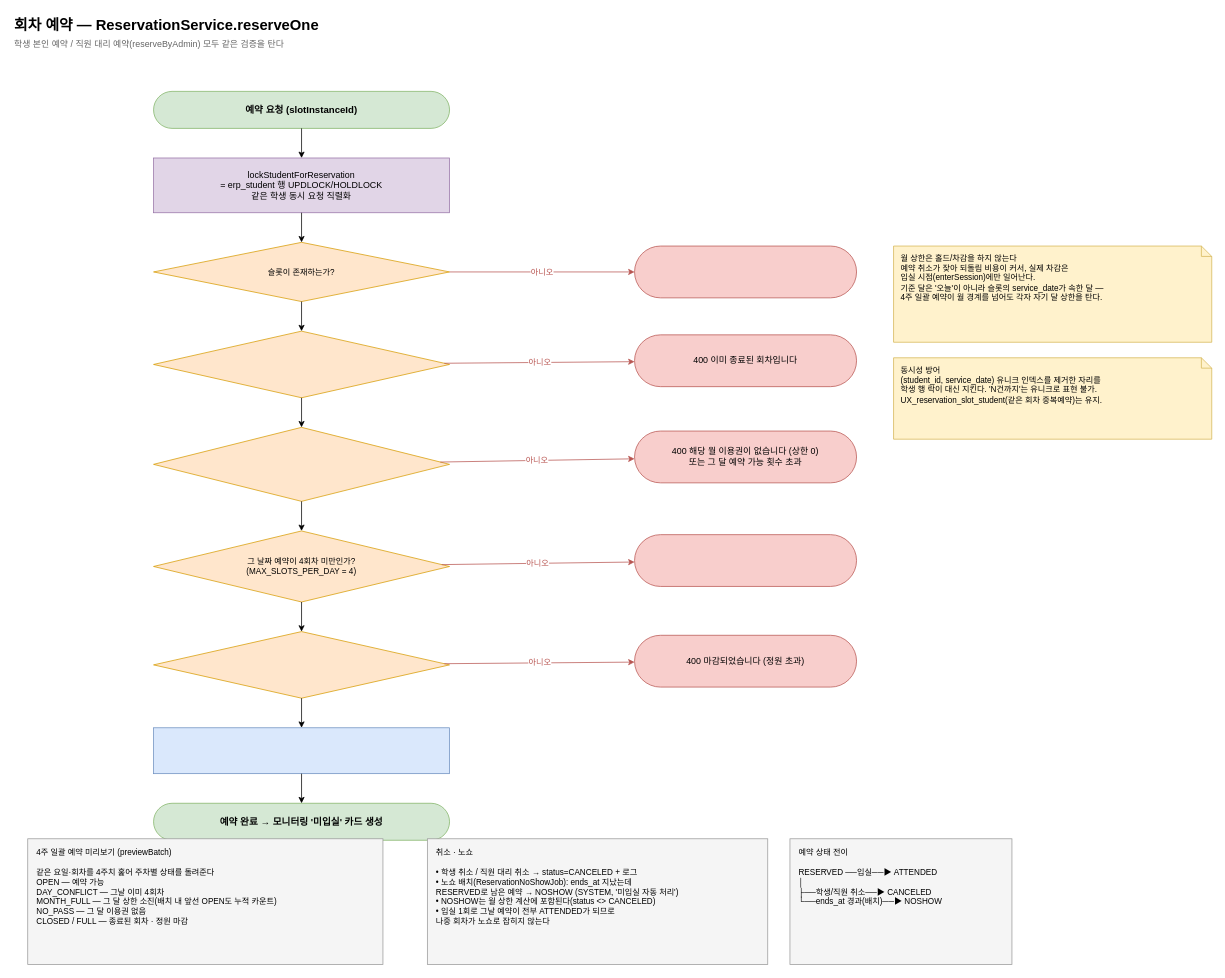
This 1225x978 diagram has some shape labels left out. The shapes that lost their labels are listed below. From the top down, each one's centre as x and y in pixels, then its label:
pixel 745 271: 404 존재하지 않는 회차입니다
pixel 301 364: 아직 끝나지 않은 회차인가? (ends_at > now)
pixel 301 464: 그 달 예약 상한 미만인가? 비취소 예약수 < 그 달 이용권 total_count 합
pixel 745 560: 400 하루 4회차까지만 예약할 수 있습니다
pixel 301 664: 슬롯 정원이 남았는가? (incrementReservedCount)
pixel 301 750: 예약 INSERT + 상태로그(RESERVED) 날짜는 요청이 아니라 슬롯에서 가져옴
